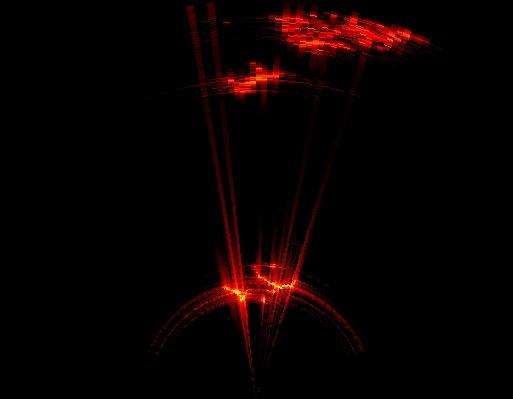shipwreck: (278, 16, 410, 52), (253, 263, 297, 293), (228, 69, 283, 93), (223, 286, 259, 301), (256, 293, 266, 302)
